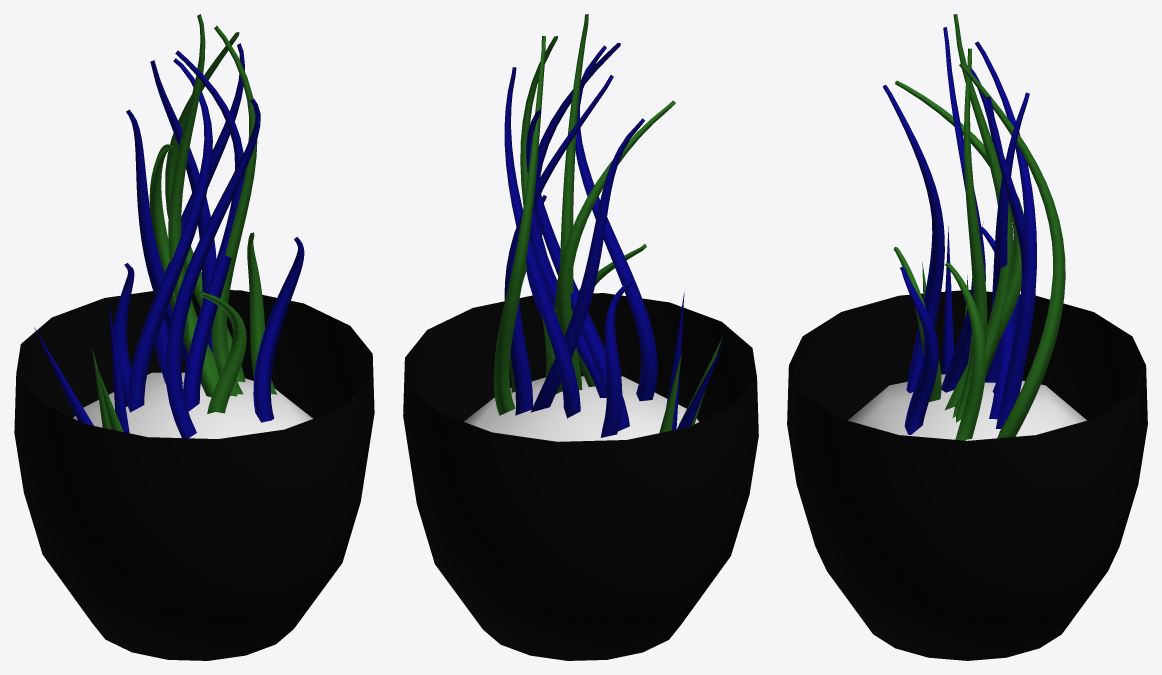
The model's file is SmallBluePlant.glb.
3 renders of one model, left to right at view 1: azimuth 30°, elevation 25°; view 2: azimuth 150°, elevation 25°; view 3: azimuth 270°, elevation 25°, orthographic.
Visible parts, largest first — view 1: SmallBluePlant; view 2: SmallBluePlant; view 3: SmallBluePlant.
Boxes of the visible parts, left/top/right/bottom form: SmallBluePlant: left=14, top=14, right=374, bottom=660; SmallBluePlant: left=403, top=14, right=758, bottom=660; SmallBluePlant: left=787, top=14, right=1147, bottom=660.
Bounding box in the file's own units: 0.603 × 1.13 × 0.603.
